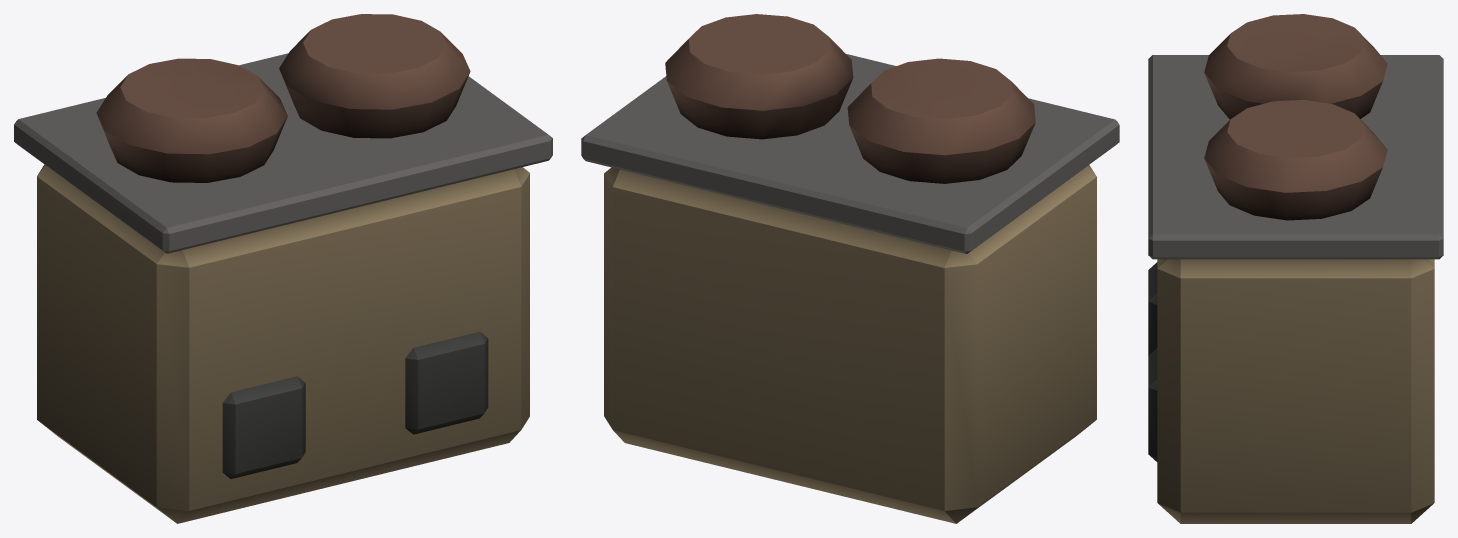
The model's file is prop.kamado.glb.
The picture shows the model from 3 angles, left to right: view 1: azimuth 30°, elevation 25°; view 2: azimuth 150°, elevation 25°; view 3: azimuth 270°, elevation 25°; orthographic projection. The views are drawn at different scales.
Parts seen in each view (by area): view 1: LOD0; view 2: LOD0; view 3: LOD0.
Part boxes in pixels (x1=…): LOD0: x1=14, y1=14, x2=552, y2=523; LOD0: x1=581, y1=14, x2=1119, y2=523; LOD0: x1=1148, y1=14, x2=1443, y2=523.
Size of what is drawn, in the model's own units: 0.94 by 0.86 by 0.64.
